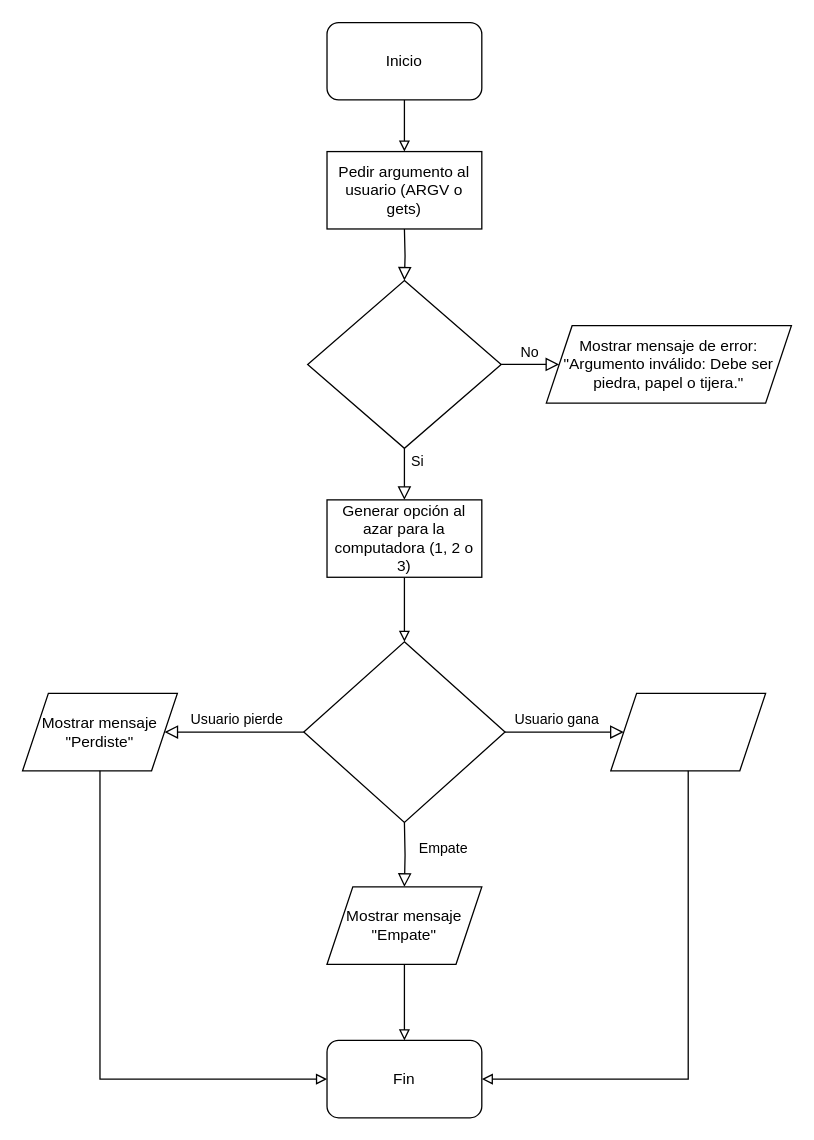
The diagram is 814 pixels wide and 1140 high, and some of its shapes have lost their labels. Each missing label, with the box of its shape:
Comparar opción del usuario con la opción de la computadora: (303, 640, 505, 822)
Mostrar mensaje "Ganaste": (610, 692, 766, 771)
¿Argumento es válido? (Piedra, papel o tijera): (306, 279, 501, 448)
